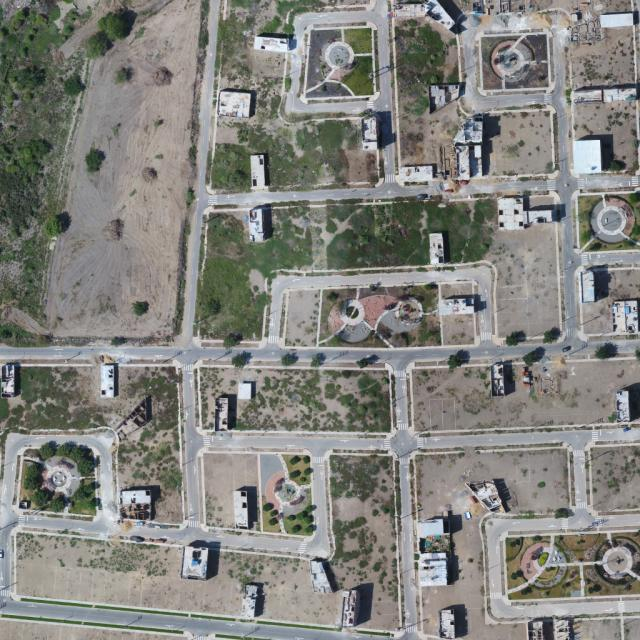building: (479, 31, 552, 94), (454, 112, 483, 179), (573, 134, 614, 174), (591, 200, 628, 242), (427, 84, 461, 113), (612, 301, 638, 332), (249, 207, 271, 242), (398, 164, 433, 183), (438, 298, 474, 315), (631, 25, 639, 83), (580, 271, 594, 302), (251, 155, 264, 188)
dryland: (41, 0, 221, 353), (12, 532, 344, 626), (416, 446, 571, 632), (328, 454, 399, 630), (480, 514, 564, 622), (488, 223, 562, 340), (390, 92, 466, 173), (572, 99, 640, 174), (481, 110, 554, 176), (574, 101, 638, 170), (204, 454, 258, 528), (548, 11, 570, 163), (306, 461, 337, 559), (458, 28, 481, 113), (488, 448, 534, 483), (441, 369, 488, 392), (574, 619, 621, 640), (569, 438, 590, 485), (481, 95, 545, 110), (485, 1, 553, 12), (306, 82, 351, 98), (624, 619, 640, 639), (552, 605, 583, 614)
greenland: (187, 190, 505, 343), (211, 0, 381, 192), (0, 368, 181, 521), (199, 367, 391, 432), (286, 282, 444, 347), (298, 22, 380, 103), (19, 440, 98, 516), (395, 18, 451, 115), (258, 453, 314, 538), (350, 385, 388, 423), (341, 56, 373, 95), (344, 28, 373, 54), (445, 320, 475, 344)
metalled_road: (0, 430, 118, 587), (483, 505, 640, 620), (171, 340, 537, 373), (130, 523, 314, 557), (369, 0, 397, 184), (205, 184, 411, 207), (201, 435, 390, 456), (395, 455, 418, 627), (555, 171, 578, 338), (182, 365, 205, 527), (380, 369, 418, 459), (0, 346, 176, 363), (402, 180, 548, 198), (540, 336, 609, 364), (385, 424, 422, 461), (287, 37, 306, 106), (300, 100, 375, 117), (400, 389, 406, 411), (517, 176, 531, 181), (291, 107, 304, 112)
